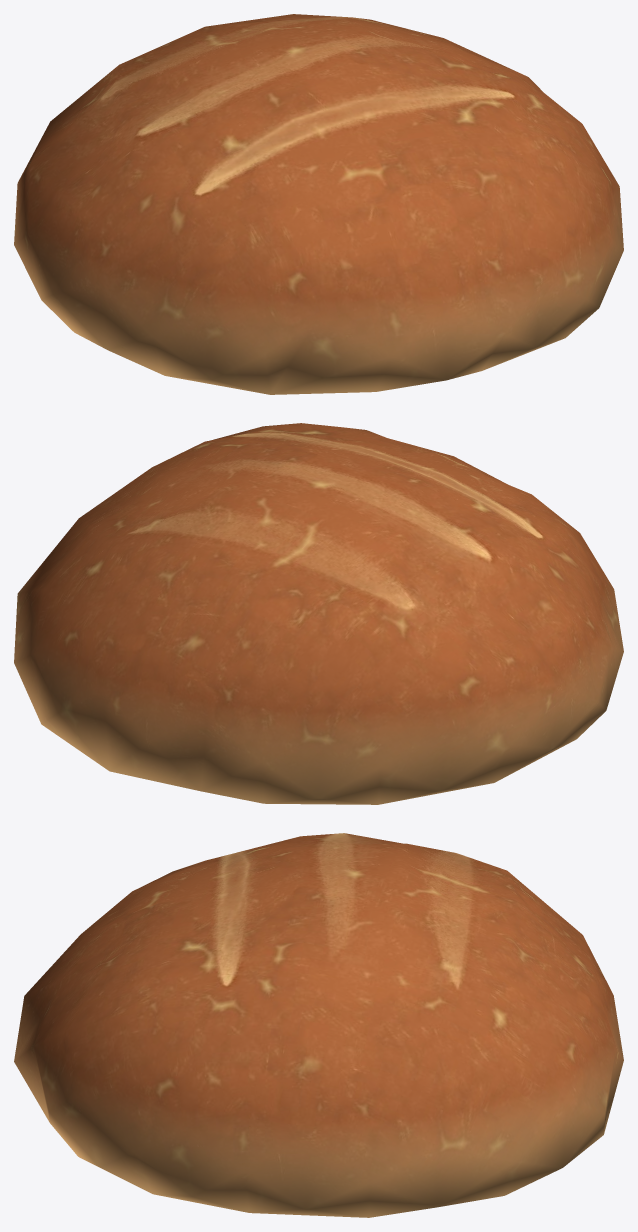
3 views of the same model, one above another, from view 1: azimuth 30°, elevation 25°; view 2: azimuth 150°, elevation 25°; view 3: azimuth 270°, elevation 25° (orthographic).
Visible parts, largest first — view 1: chleb002_low; view 2: chleb002_low; view 3: chleb002_low.
Part boxes in pixels (x1=…): chleb002_low: x1=14, y1=14, x2=623, y2=394; chleb002_low: x1=14, y1=423, x2=623, y2=804; chleb002_low: x1=14, y1=833, x2=623, y2=1217.
Size of the model in its own units: 2 by 0.8103 by 1.97.
1 material, 1 textured.
